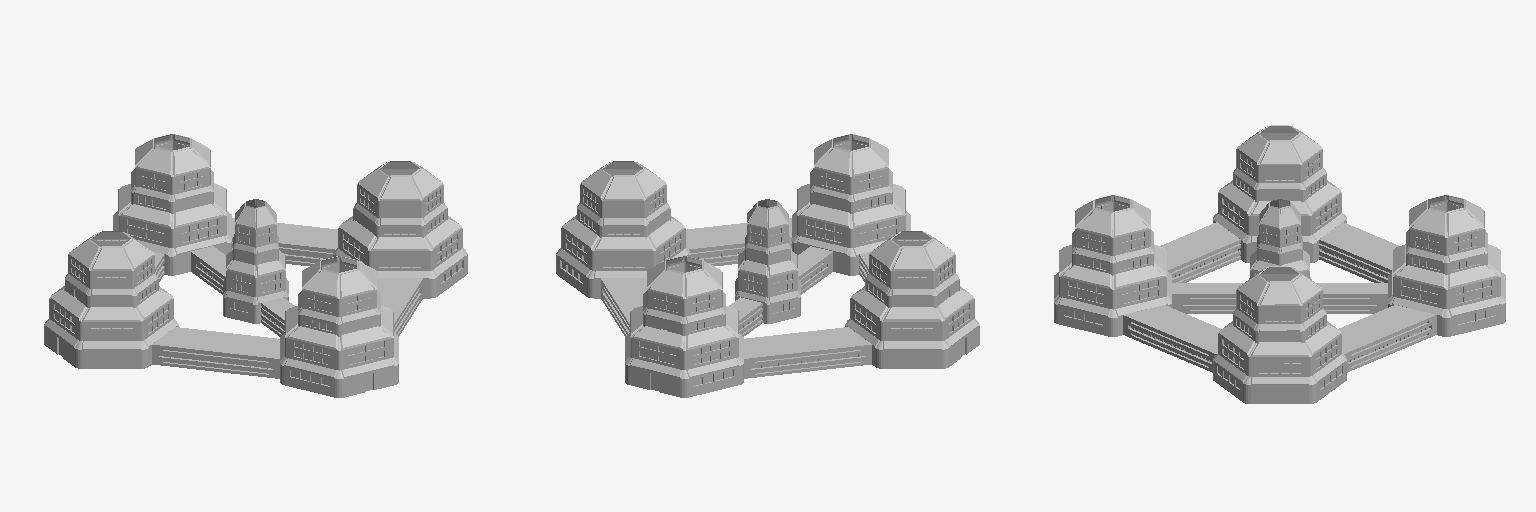
3 renders of one model, left to right at view 1: azimuth 30°, elevation 25°; view 2: azimuth 150°, elevation 25°; view 3: azimuth 270°, elevation 25°, orthographic.
Parts seen in each view (by area): view 1: base; view 2: base; view 3: base.
Part boxes in pixels (x1,y1,x2,y2): base: (44,134,467,397); base: (556,134,979,397); base: (1054,125,1505,403).
Bounding box in the file's own units: 4.95 × 1.27 × 4.95.